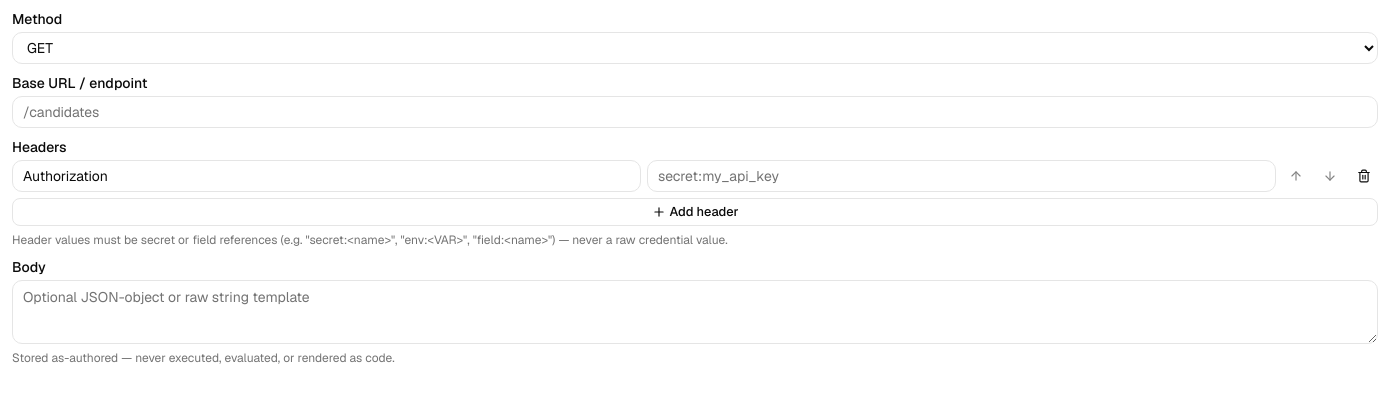
HttpRequestConfigEditor › shows an inline error for a sensitive header holding a literal value
The width and height of the screenshot is (1390, 401).
Type "Bearer fake_demo_token_123" into the field named "Header value" at (962, 176), box [647,160,1276,192]
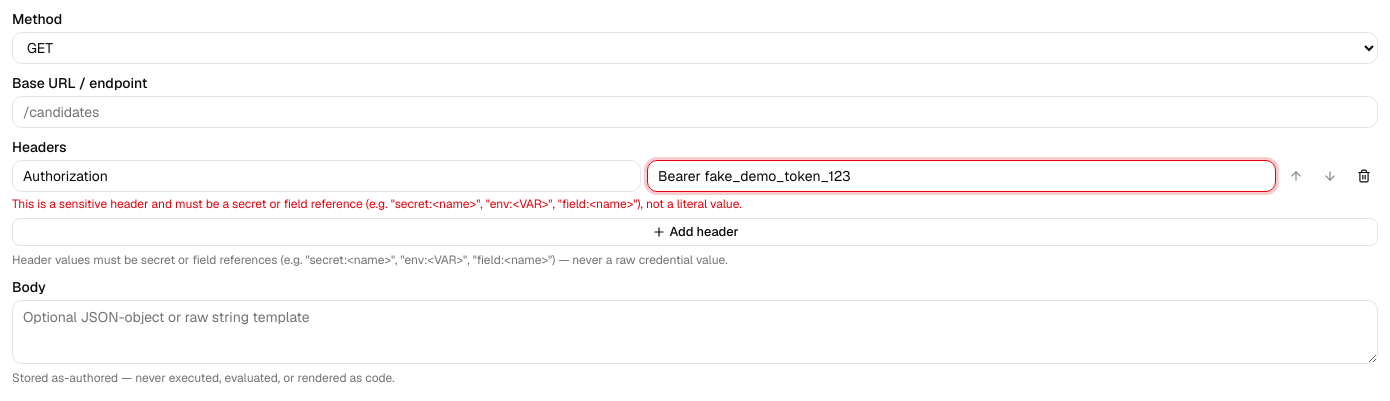
Now the text "sensitive header" is shown, box [12,196,742,212]
